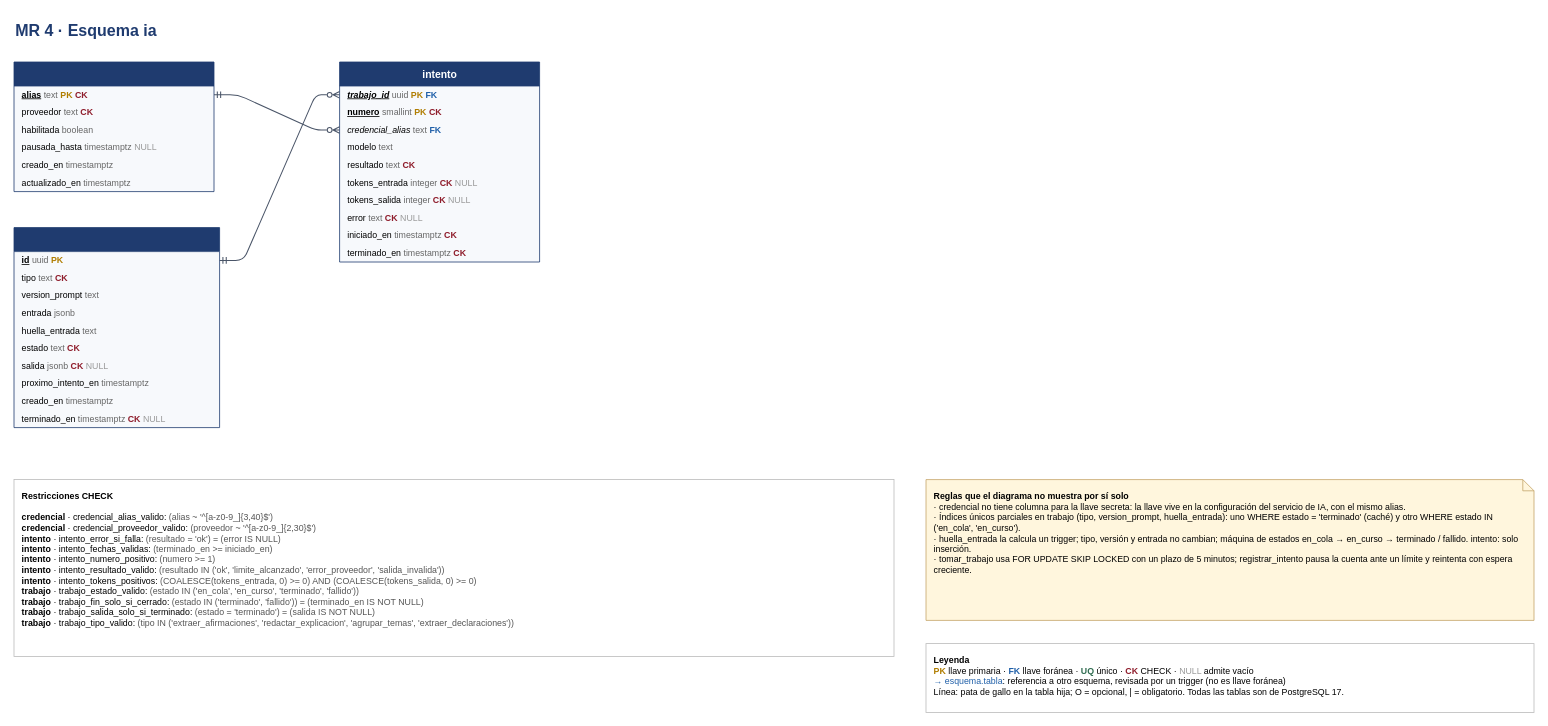
Some shapes in this 1548 by 726 pixel diagram are drawn without their labels. Each missing label, with the box of its shape:
credencial: (13, 61, 214, 192)
trabajo: (13, 227, 220, 428)
